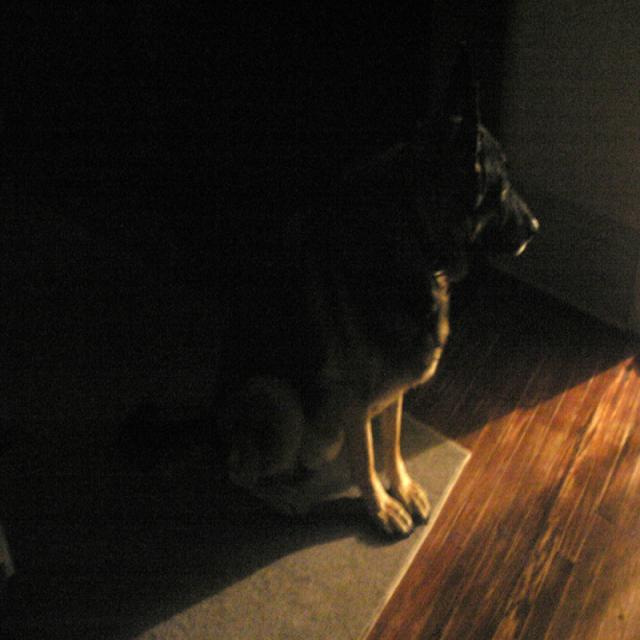Dog: (237, 144, 637, 616)
